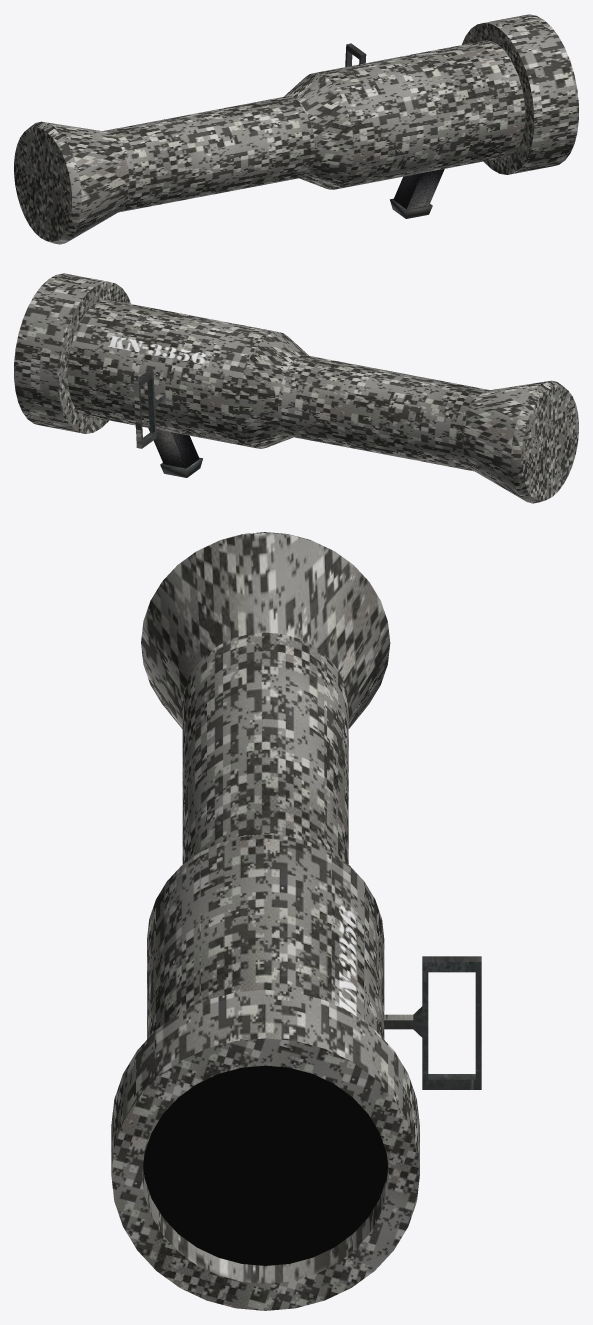
File: launcher_000014.obj
3 renders of one model, top to bottom at view 1: azimuth 30°, elevation 25°; view 2: azimuth 150°, elevation 25°; view 3: azimuth 270°, elevation 25°, orthographic. The views are drawn at different scales.
Parts seen in each view (by area): view 1: Cylinder; view 2: Cylinder; view 3: Cylinder.
Boxes of the visible parts, x1,y1,x2,y2 form: Cylinder: (14, 14, 578, 244); Cylinder: (14, 273, 578, 503); Cylinder: (111, 532, 481, 1310).
Size of the model in its own units: 8.81 by 2.91 by 2.81.
1 material, 1 textured.
